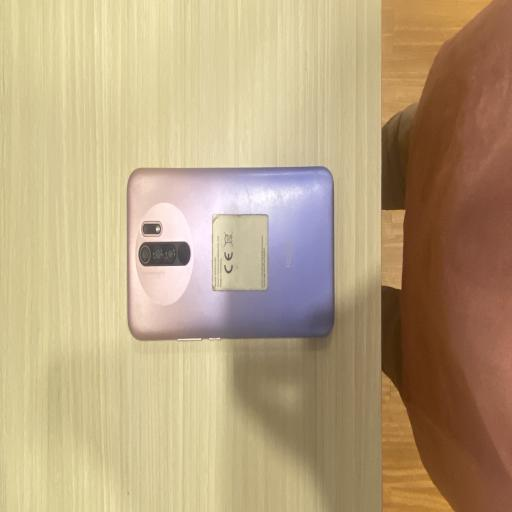hp: (126, 162, 336, 342)
